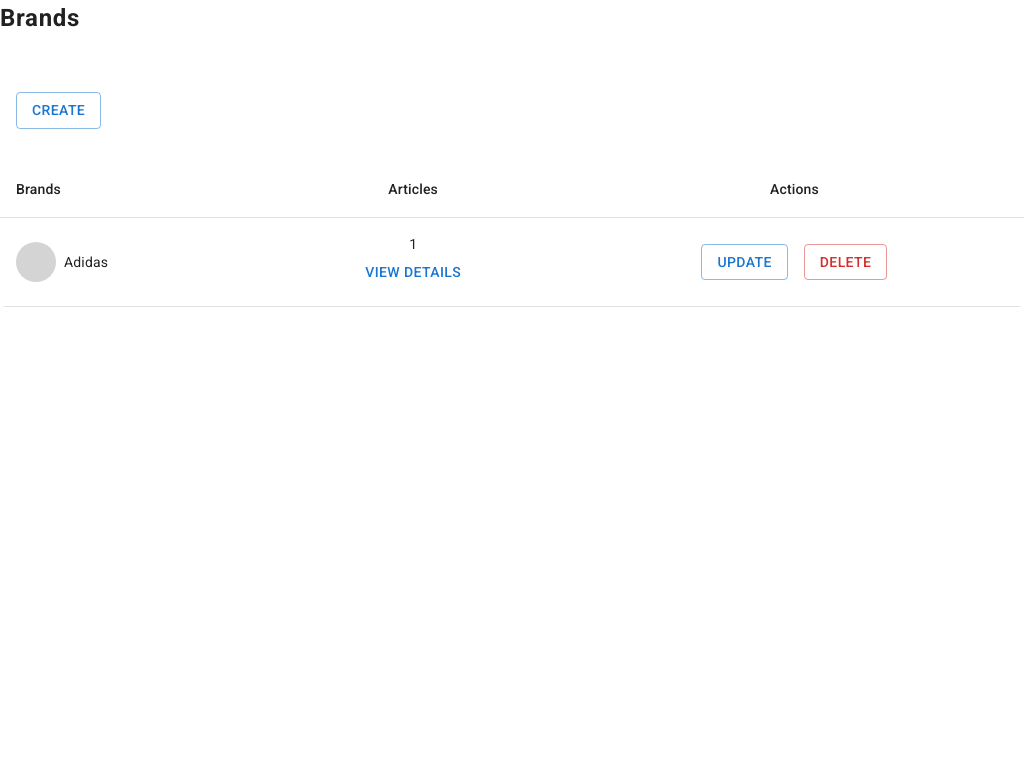
Test: Brands component › Brands button click › Prompt brand creation
The image size is (1024, 768).
Click the button "Create" at (59,110), box [16,92,101,128]
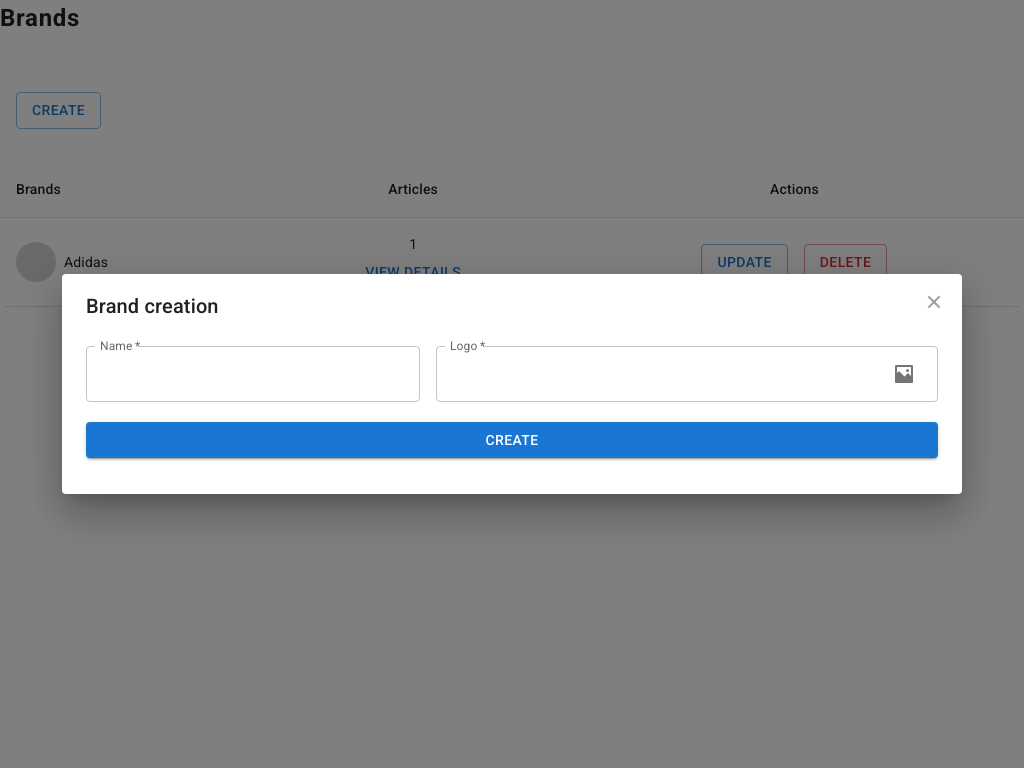
Expected: the field labelled "Name *" is shown, [108,346,398,402]
Expected: the field labelled "Logo *" is shown, [458,346,876,402]
